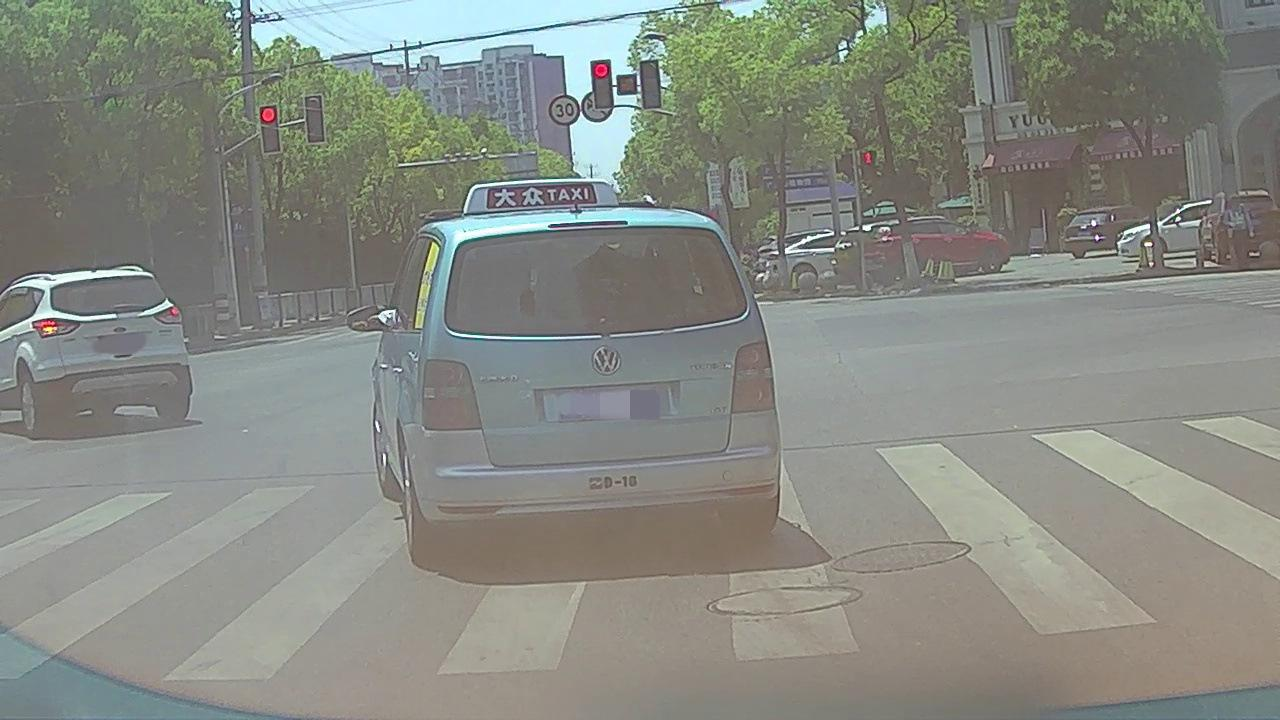traffic_light: (592, 60, 612, 108), (642, 60, 661, 107), (305, 96, 323, 143), (261, 106, 279, 152)
